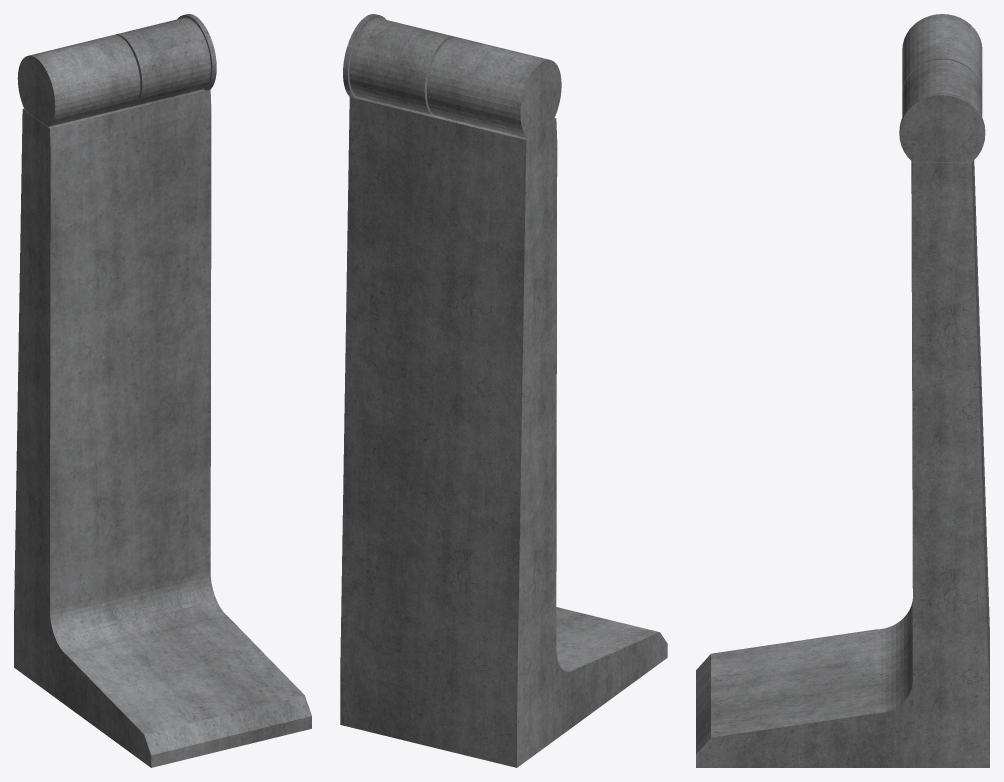
The model's file is Wall_Segment_Fractured.glb.
The picture shows the model from 3 angles, left to right: view 1: azimuth 30°, elevation 25°; view 2: azimuth 150°, elevation 25°; view 3: azimuth 270°, elevation 25°; orthographic projection. The views are drawn at different scales.
Parts seen in each view (by area): view 1: Chunk_09, Chunk_15, Pipe_2, Chunk_33, Pipe_1, Chunk_27, Chunk_19, Chunk_11, Chunk_31, Chunk_18, Chunk_24, Chunk_01 (+12 smaller); view 2: Chunk_09, Pipe_2, Chunk_01, Pipe_1, Chunk_19, Chunk_06, Chunk_28, Chunk_12, Chunk_29, Chunk_30, Chunk_24, Chunk_31 (+20 smaller); view 3: Chunk_09, Pipe_1, Chunk_30, Chunk_06, Chunk_23, Chunk_14, Chunk_26, Pipe_2, Chunk_18, Chunk_22, Chunk_05, Chunk_07 (+3 smaller).
Boxes of the visible parts, left/top/right/bottom form: Chunk_09: left=14, top=458, right=311, bottom=767; Chunk_15: left=18, top=351, right=128, bottom=460; Pipe_2: left=17, top=35, right=140, bottom=126; Chunk_33: left=106, top=89, right=211, bottom=215; Pipe_1: left=114, top=14, right=216, bottom=105; Chunk_27: left=21, top=159, right=131, bottom=237; Chunk_19: left=18, top=279, right=107, bottom=354; Chunk_11: left=16, top=382, right=134, bottom=497; Chunk_31: left=21, top=108, right=114, bottom=188; Chunk_18: left=136, top=353, right=210, bottom=433; Chunk_24: left=19, top=217, right=86, bottom=294; Chunk_01: left=14, top=600, right=98, bottom=729; Chunk_09: left=341, top=513, right=667, bottom=698; Pipe_2: left=427, top=37, right=561, bottom=138; Chunk_01: left=452, top=680, right=610, bottom=767; Pipe_1: left=343, top=14, right=454, bottom=114; Chunk_19: left=463, top=300, right=556, bottom=412; Chunk_06: left=340, top=635, right=441, bottom=749; Chunk_28: left=428, top=147, right=530, bottom=261; Chunk_12: left=405, top=426, right=489, bottom=548; Chunk_29: left=349, top=96, right=432, bottom=217; Chunk_30: left=347, top=140, right=434, bottom=244; Chunk_24: left=482, top=237, right=556, bottom=330; Chunk_31: left=468, top=118, right=557, bottom=196; Chunk_09: left=696, top=487, right=988, bottom=767; Pipe_1: left=899, top=59, right=985, bottom=162; Chunk_30: left=911, top=187, right=975, bottom=289; Chunk_06: left=871, top=681, right=989, bottom=767; Chunk_23: left=912, top=375, right=981, bottom=465; Chunk_14: left=912, top=472, right=984, bottom=563; Chunk_26: left=911, top=252, right=977, bottom=349; Pipe_2: left=902, top=14, right=982, bottom=92; Chunk_18: left=912, top=428, right=982, bottom=513; Chunk_22: left=912, top=325, right=979, bottom=392; Chunk_05: left=842, top=661, right=989, bottom=767; Chunk_07: left=778, top=715, right=904, bottom=767.
Size of the model in its own units: 2.38 by 8.89 by 3.52.
Materials: 1 (1 with a texture image).
